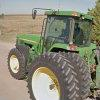Tractor: (10, 8, 100, 100)
